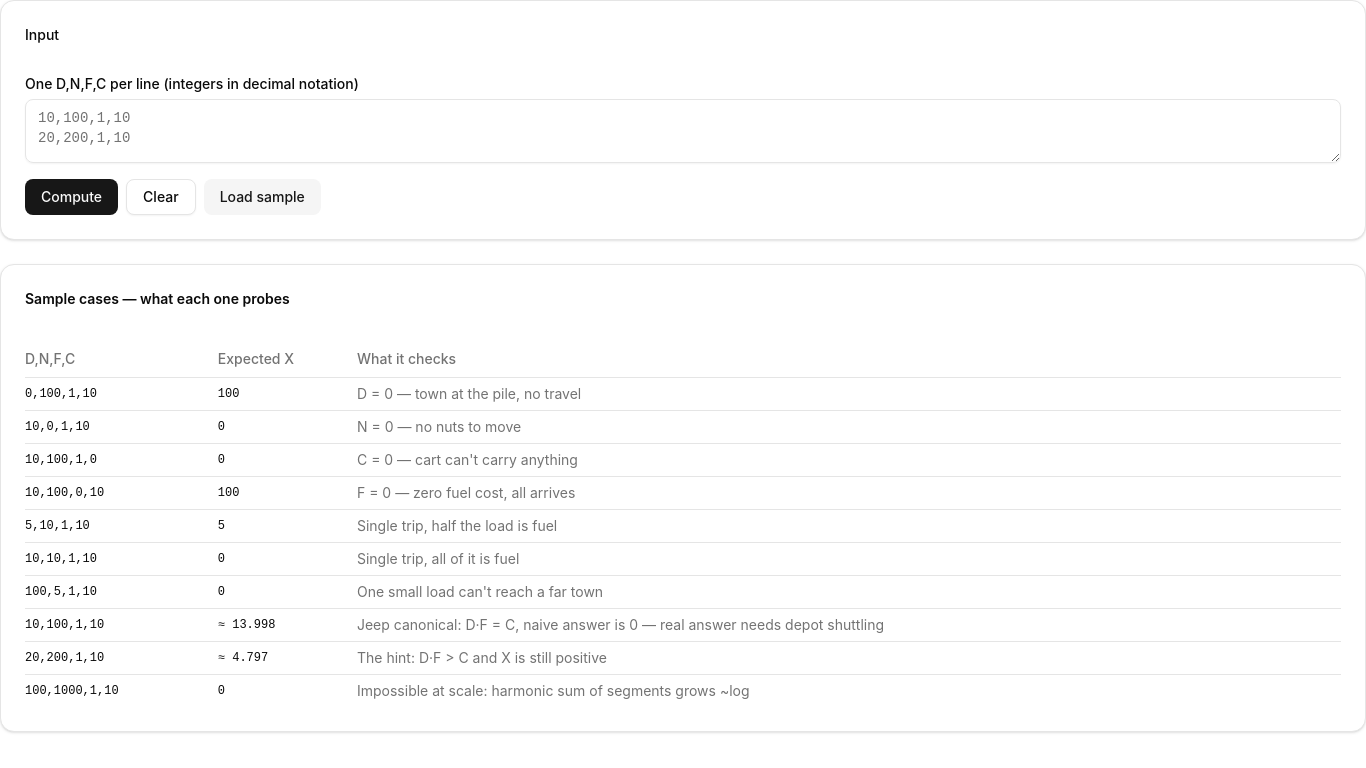
Test: <NutForm /> › Load sample clears existing results from a previous compute
The image size is (1366, 768).
Type "5,10,1,10" into the text box labelled "One D,N,F,C per line (integers in decimal notation)" at (683, 131), box [25, 99, 1341, 163]
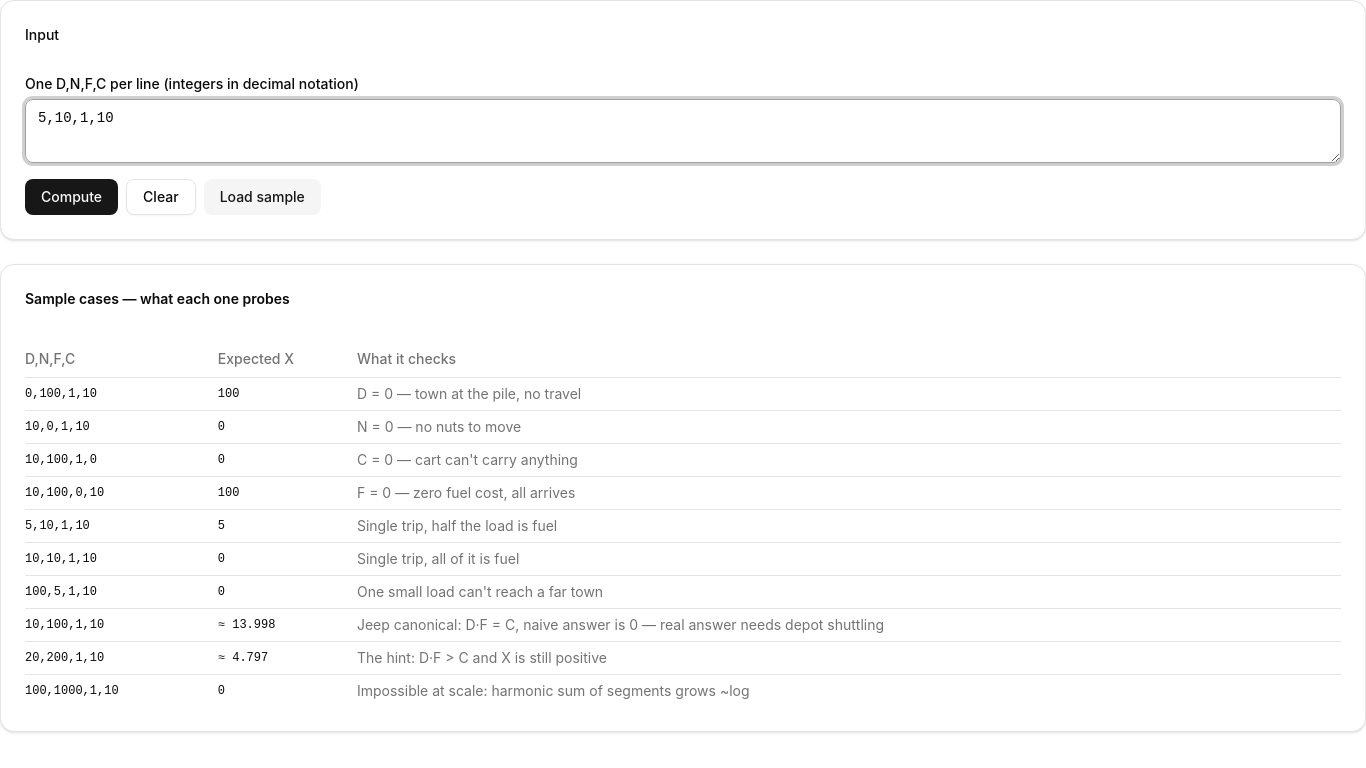
Click the button "Compute" at (72, 197), box [25, 179, 118, 215]
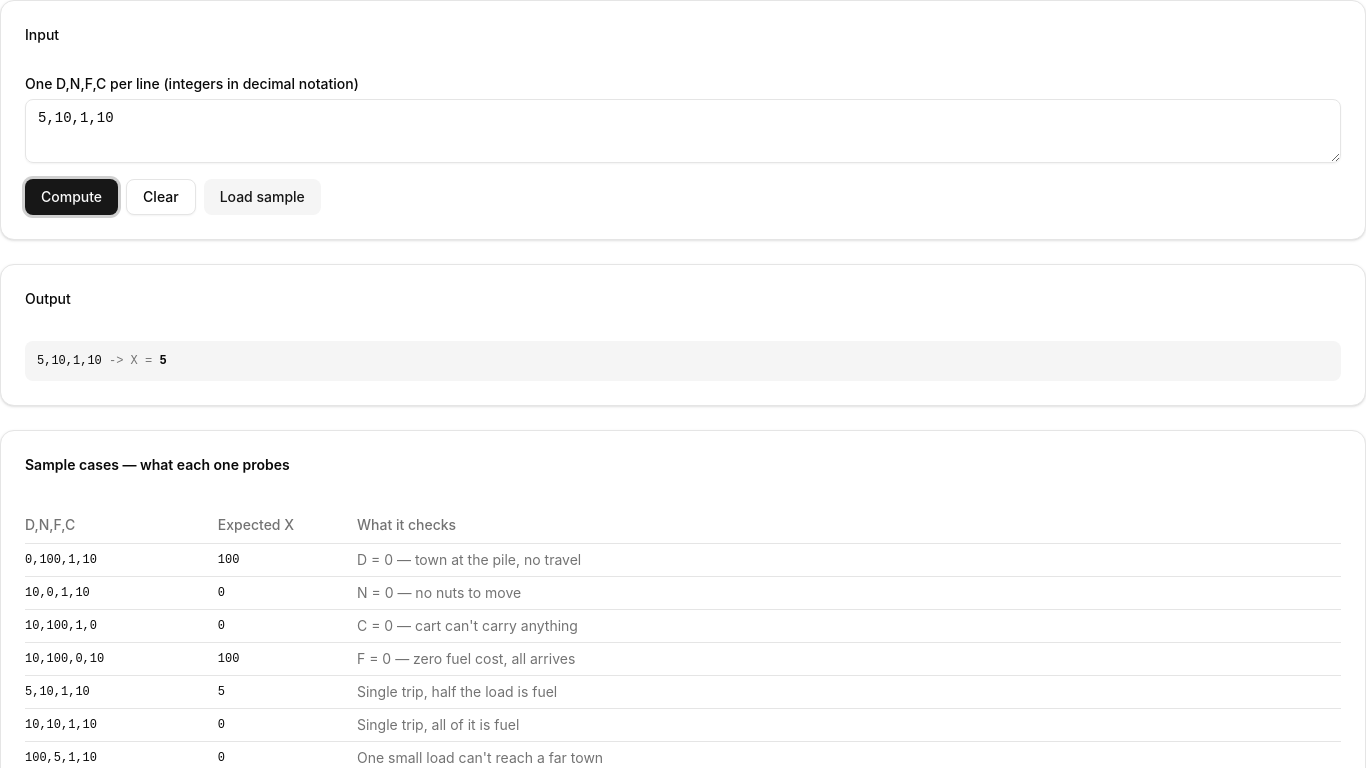
expect the element named "results" is shown: met, box [25, 341, 1341, 381]
Click the button "Load sample" at (262, 197), box [204, 179, 321, 215]
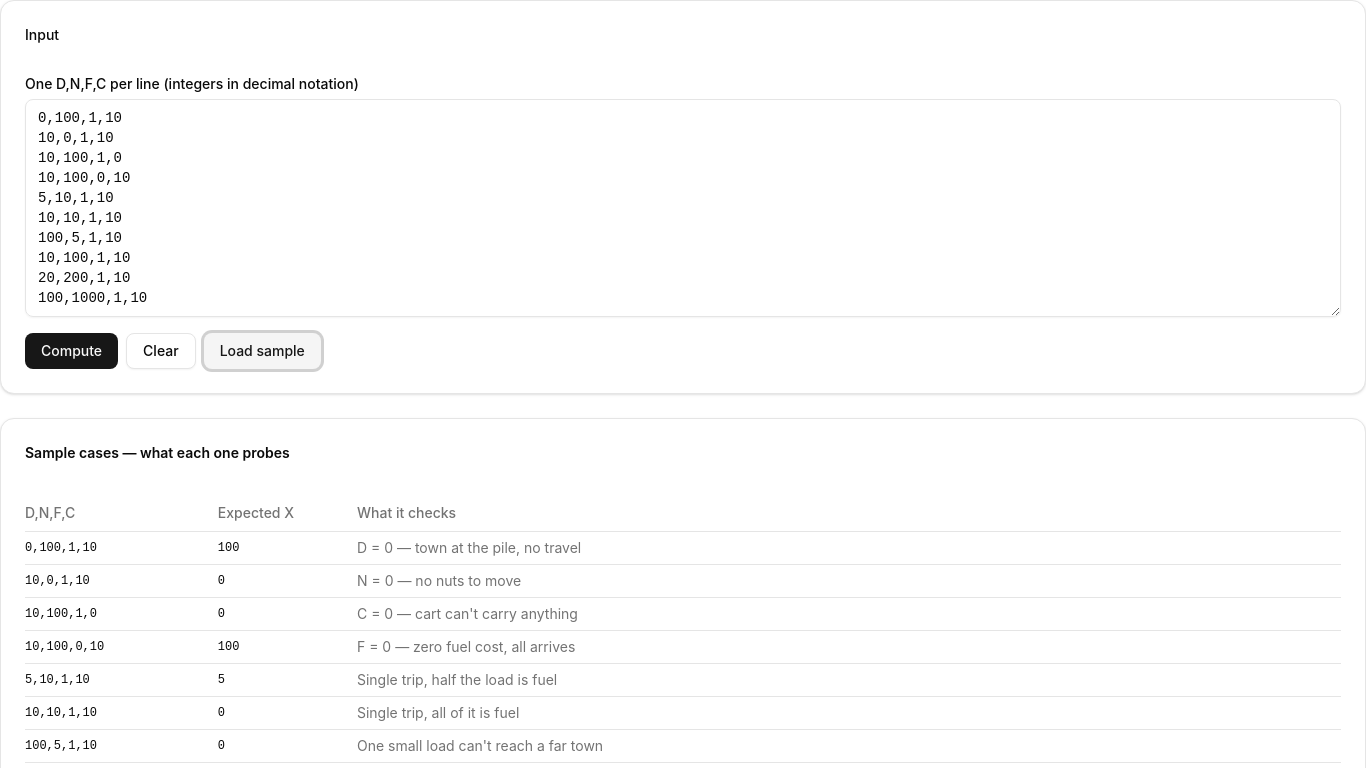
expect the field labelled "results" is gone: met
